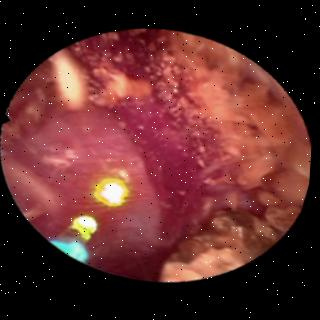fiber: (55, 239, 90, 260)
laser: (96, 176, 131, 202), (75, 214, 98, 236)
stone: (163, 34, 311, 277), (55, 50, 90, 109), (98, 69, 152, 103)
tissue: (7, 71, 233, 275)
